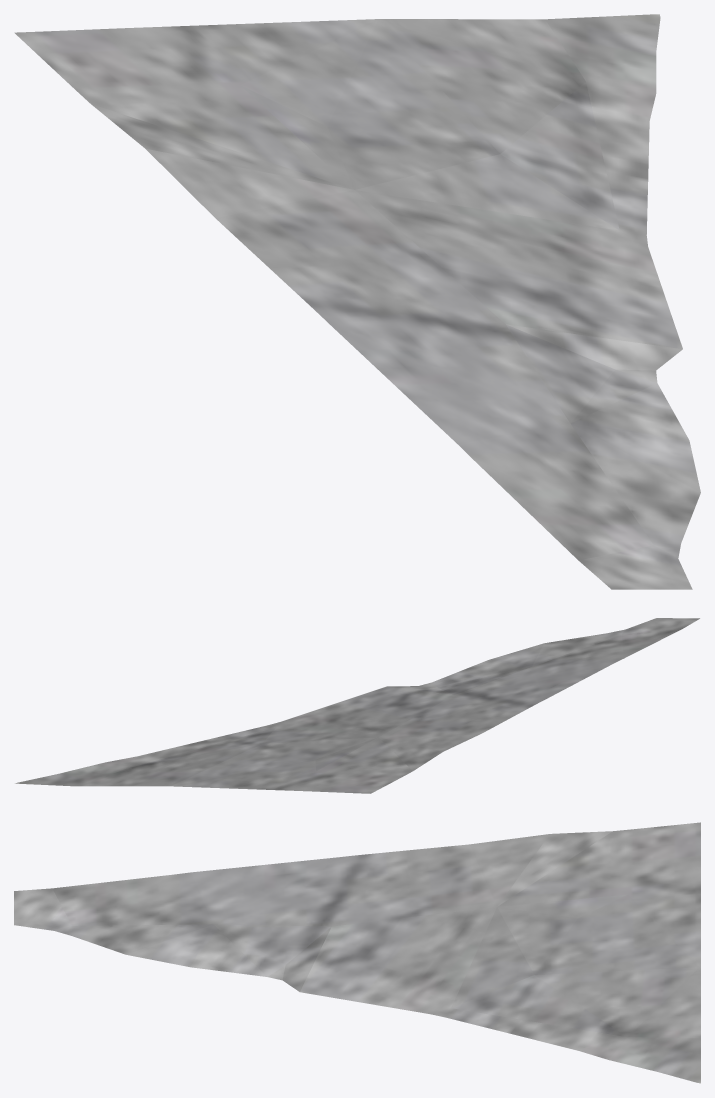
The picture shows the model from 3 angles, top to bottom: view 1: azimuth 30°, elevation 25°; view 2: azimuth 150°, elevation 25°; view 3: azimuth 270°, elevation 25°; orthographic projection. The views are drawn at different scales.
Size of the model in its own units: 0.5224 by 0.1076 by 0.8373.
1 material, 1 textured.
